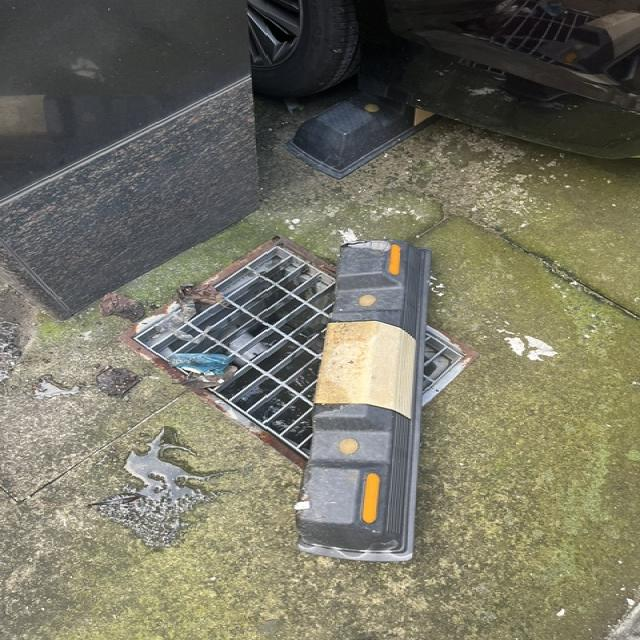drain_area: (133, 246, 336, 460), (420, 333, 465, 395), (135, 337, 135, 337)
drain_full: (134, 244, 467, 473)
